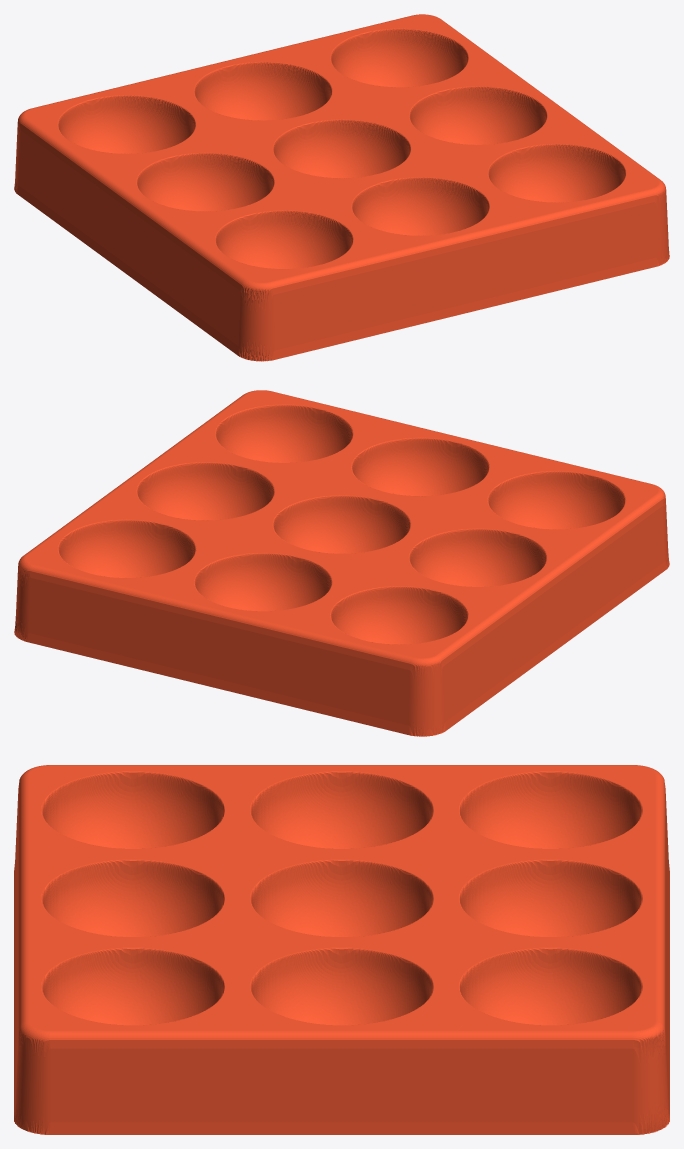
Rendered from mold.glb.
3 renders of one model, top to bottom at view 1: azimuth 30°, elevation 25°; view 2: azimuth 150°, elevation 25°; view 3: azimuth 270°, elevation 25°, orthographic. The views are drawn at different scales.
Visible parts, largest first — view 1: geometry_0; view 2: geometry_0; view 3: geometry_0.
Boxes of the visible parts, box(x1,y1,x2,y2) form: geometry_0: box(14, 14, 669, 361); geometry_0: box(14, 390, 669, 736); geometry_0: box(14, 765, 669, 1134).
Size of the model in its own units: 0.1621 by 0.0267 by 0.1621.
